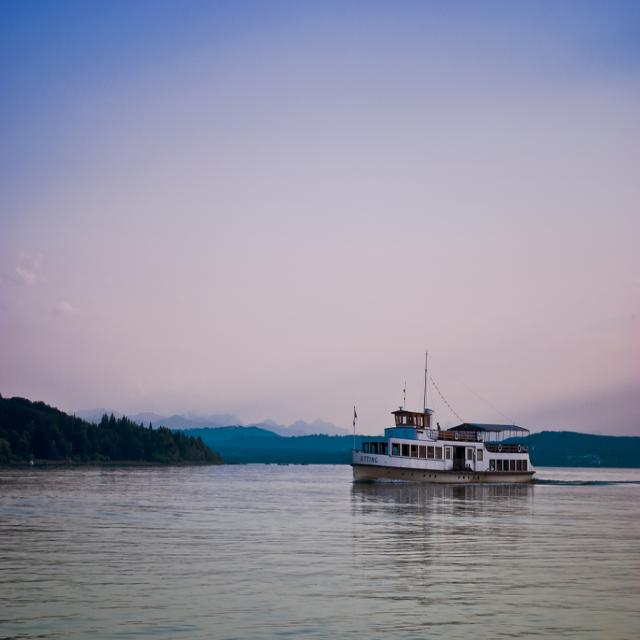Boat: (345, 374, 557, 498)
